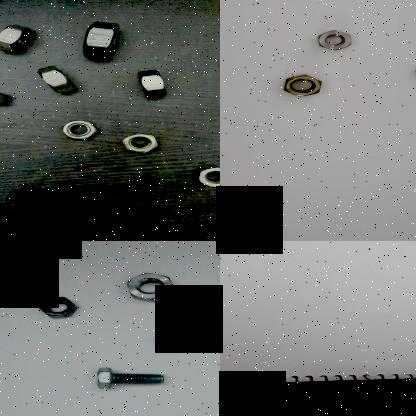Bolts: (84, 364, 172, 398)
NUTS: (120, 266, 180, 307), (76, 18, 126, 62), (28, 292, 81, 324), (148, 322, 200, 350), (278, 71, 326, 100), (36, 63, 76, 95), (56, 115, 102, 142), (134, 67, 171, 99), (0, 23, 34, 54), (12, 185, 54, 209), (314, 29, 354, 52), (121, 130, 162, 152), (193, 164, 220, 188), (0, 83, 12, 108)
